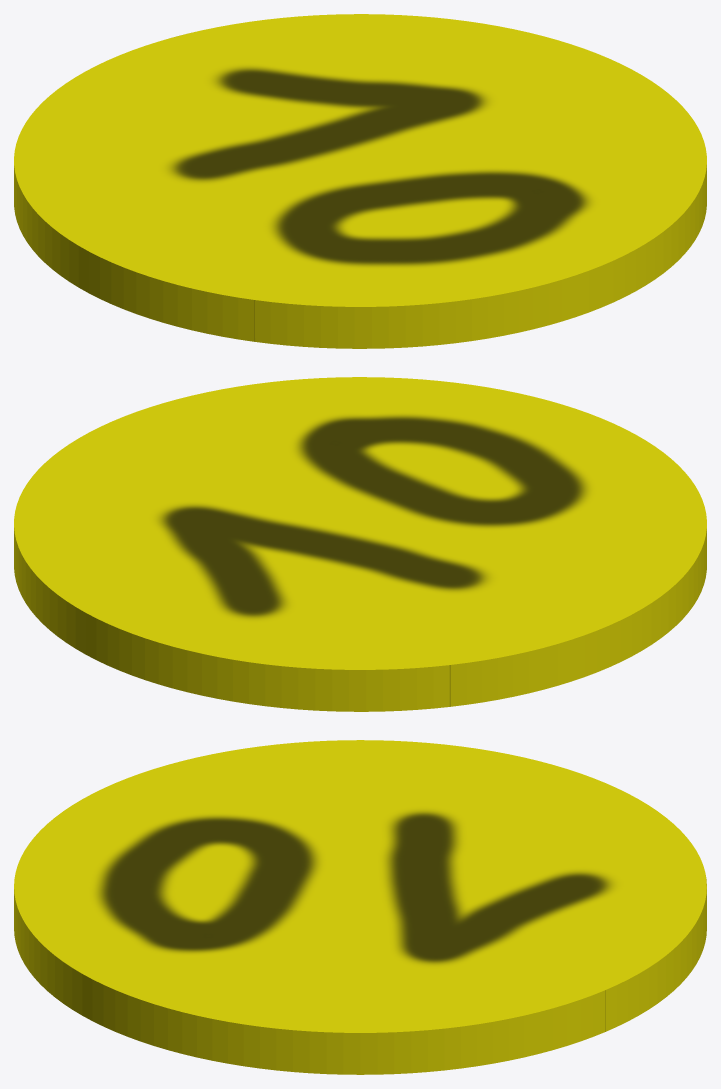
Rendered from dae_coin2.dae.
The picture shows the model from 3 angles, top to bottom: view 1: azimuth 30°, elevation 25°; view 2: azimuth 150°, elevation 25°; view 3: azimuth 270°, elevation 25°; orthographic projection.
Visible parts, largest first — view 1: Cylinder; view 2: Cylinder; view 3: Cylinder.
Boxes of the visible parts, left/top/right/bottom form: Cylinder: left=14, top=14, right=706, bottom=348; Cylinder: left=14, top=377, right=706, bottom=711; Cylinder: left=14, top=740, right=706, bottom=1074.
Bounding box in the file's own units: 1.5 × 1.5 × 0.1.
1 material, 1 textured.
